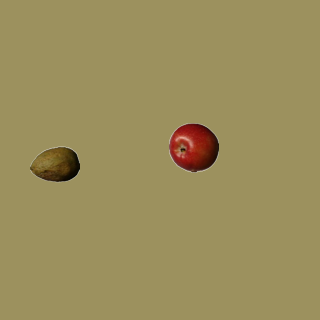Apple Braeburn: (168, 122, 218, 172)
Papaya: (29, 139, 79, 189)
